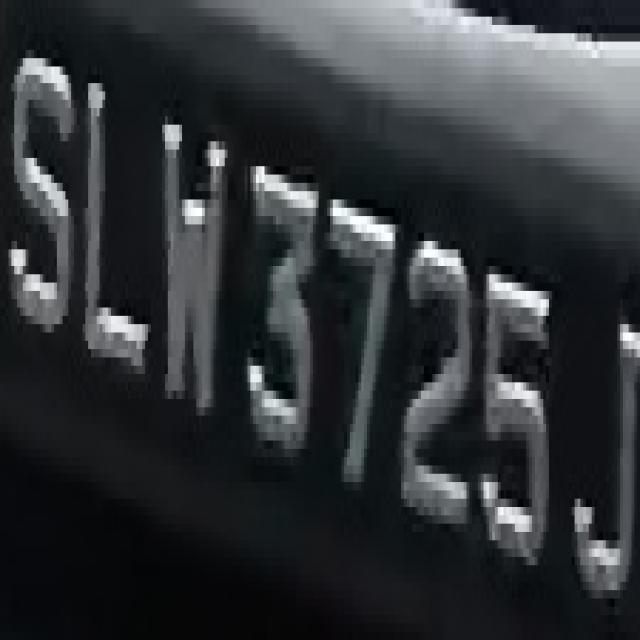2: (398, 174, 469, 557)
3: (242, 100, 324, 474)
5: (464, 208, 554, 573)
7: (327, 158, 398, 507)
J: (563, 241, 640, 615)
L: (77, 25, 151, 391)
S: (11, 9, 74, 358)
W: (156, 83, 234, 441)
